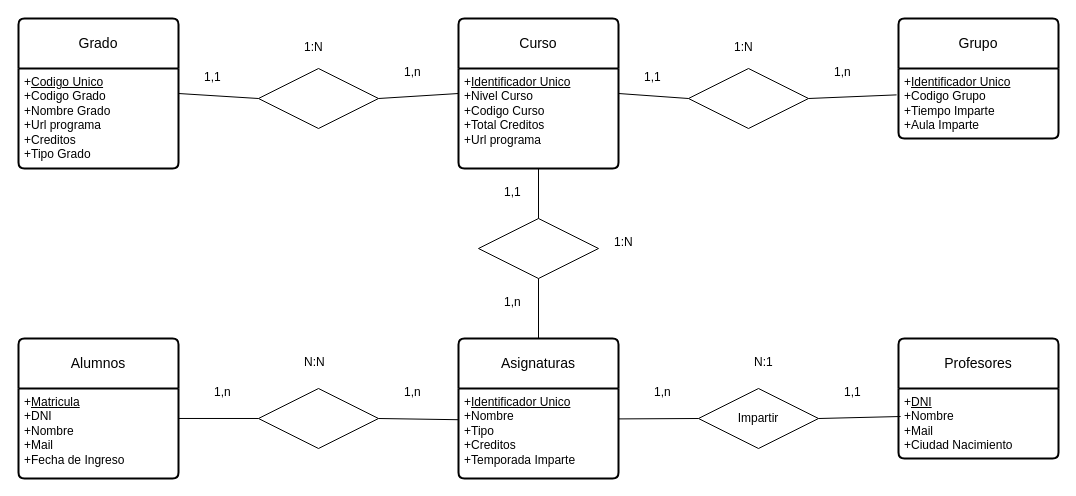
This 1076x496 diagram has some shape labels left out. Each missing label, with the centre of its shape:
"Contiene" goes at point (748, 98).
"Matricular" goes at point (318, 418).
"Tener" goes at point (538, 248).
"Tiene" goes at point (318, 98).
